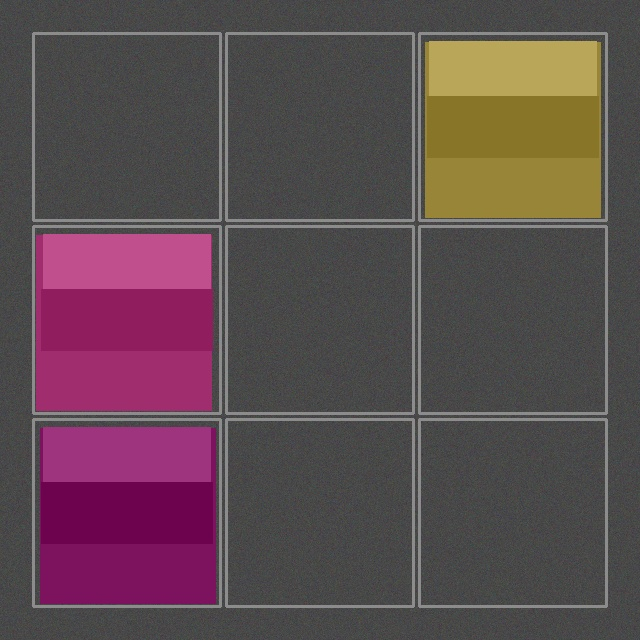space-empty: (35, 35, 218, 218), (228, 35, 411, 218), (228, 228, 411, 411), (421, 228, 604, 411), (228, 421, 411, 604), (421, 421, 604, 604)
space-occupied: (421, 35, 604, 218), (35, 228, 218, 411), (35, 421, 218, 604)
